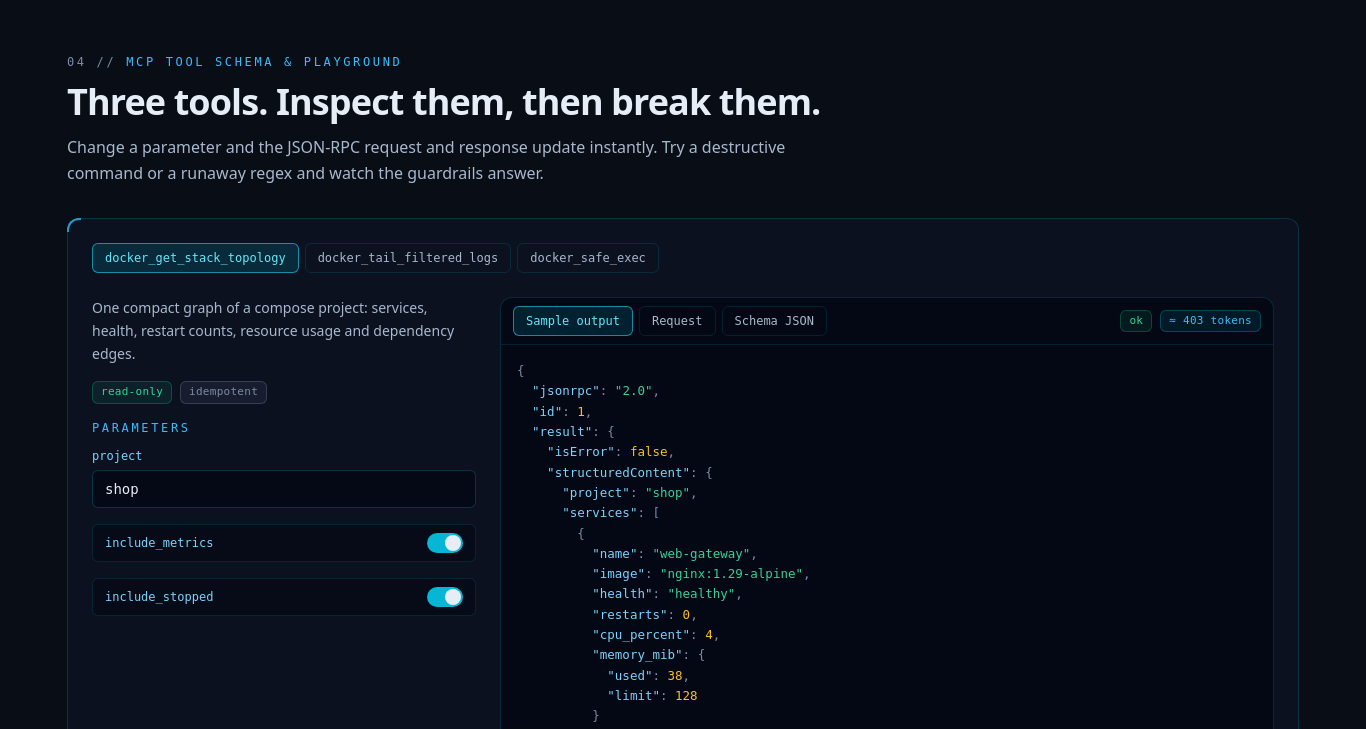
Scenario: ToolPlaygroundSection › opens on the topology tool with a live response
Expected: the element named "docker_get_stack_topology response" shows "\"cpu_percent\"", [592,627,690,642]
Click the switch labelled "include_metrics".
click(159, 543)  # box [92,524,476,562]
(page scrolled)
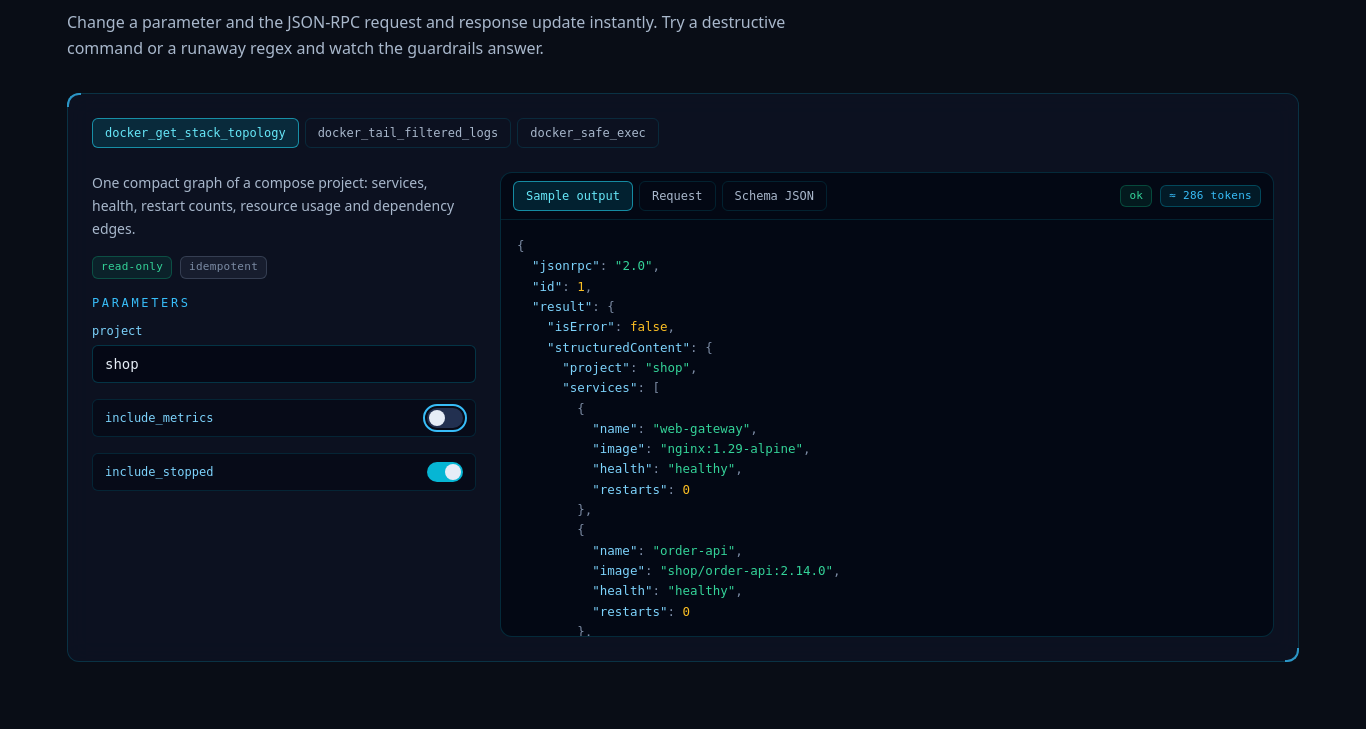
Now the element named "docker_get_stack_topology response" no longer shows "\"cpu_percent\"", box [517,238,841,637]
